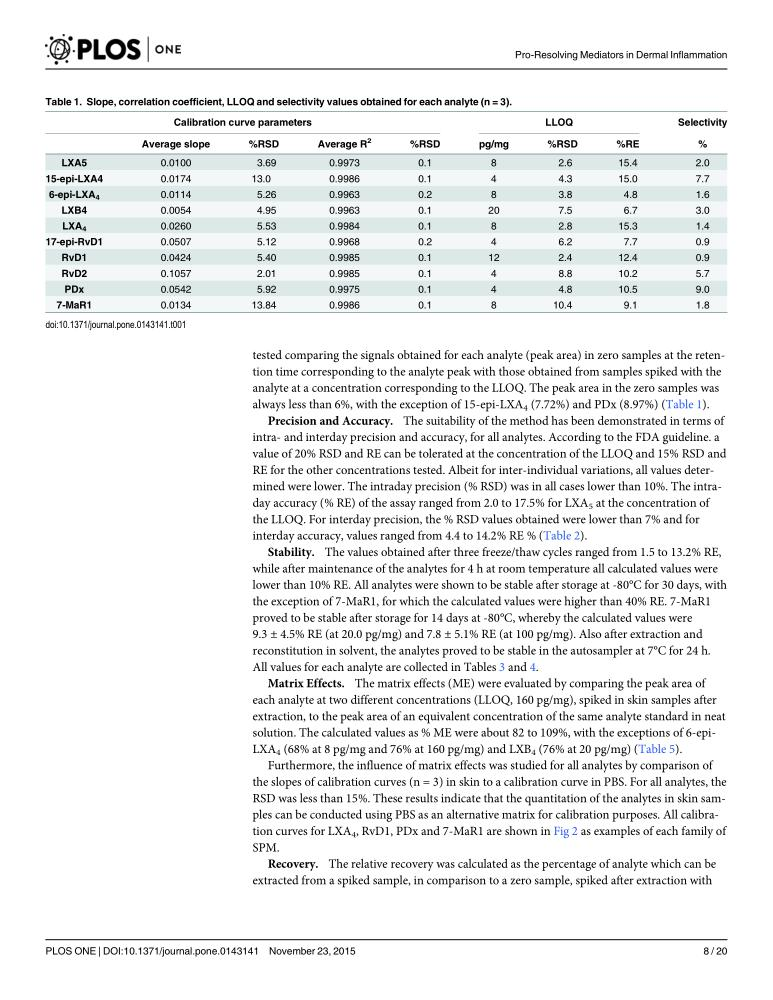table: (45, 116, 726, 310)
